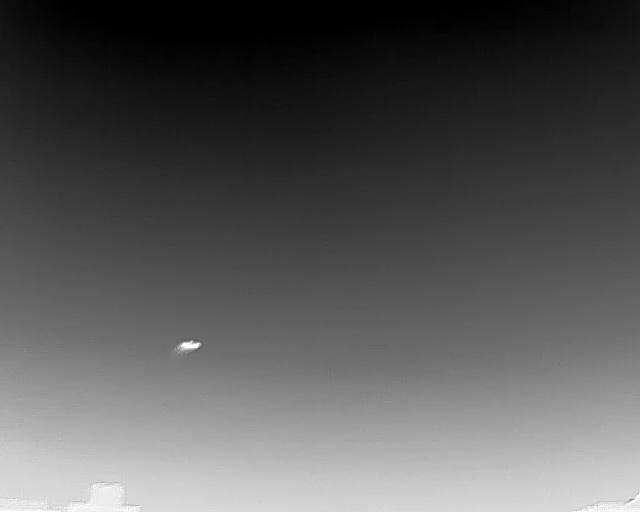fpv-drone: (175, 340, 201, 353)
